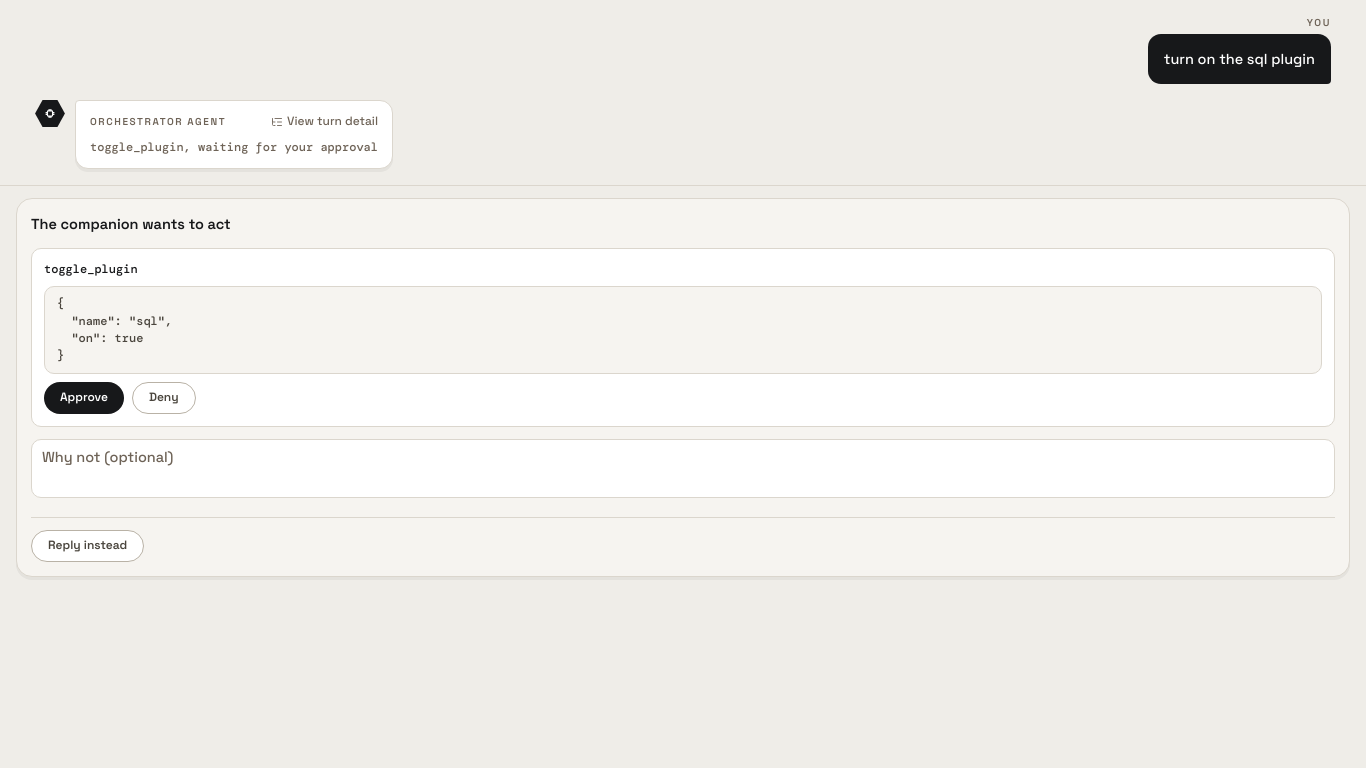
SessionChat › keeps the composer a target while the approval card holds its place
The width and height of the screenshot is (1366, 768).
Expected: the button with aria-label "Approve toggle_plugin" is shown, [44, 382, 124, 414]
Click the button "Reply instead" at (88, 546), box [31, 530, 144, 562]
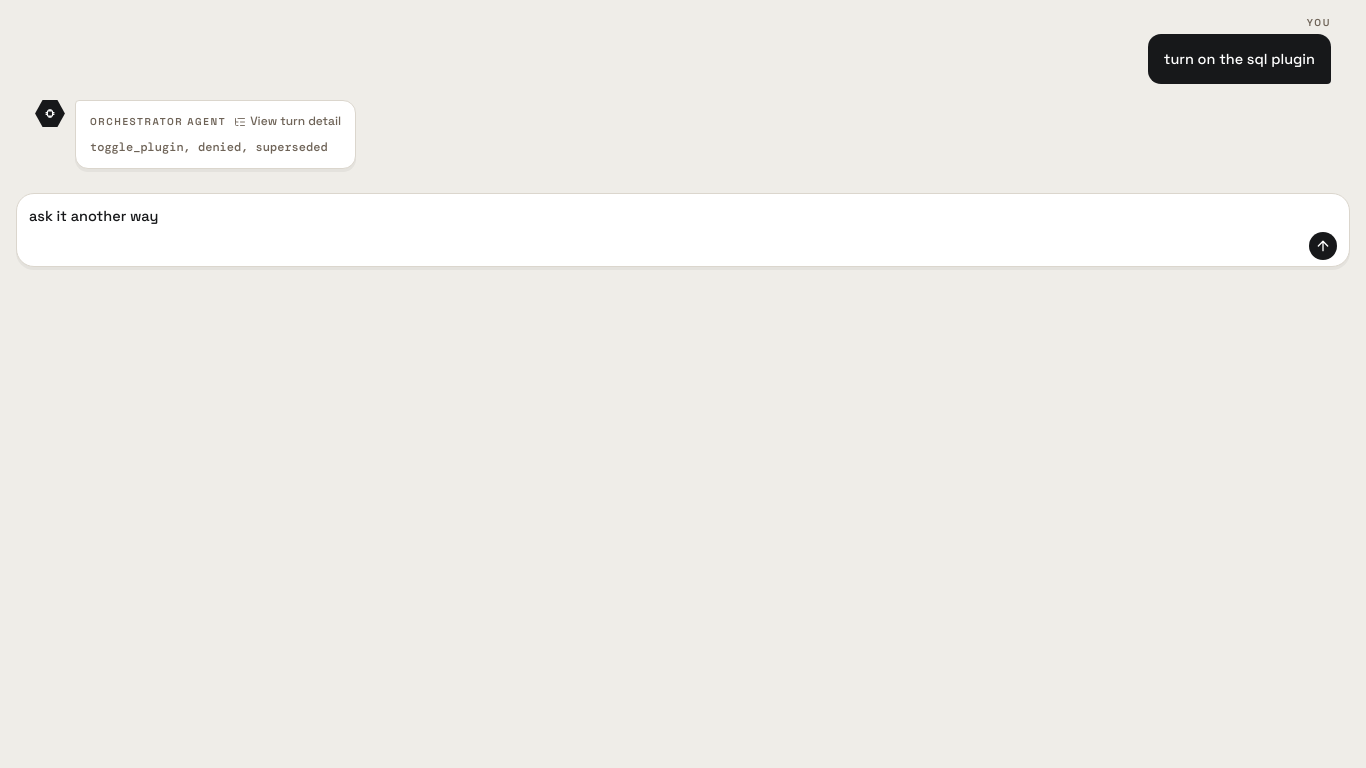
Expected: the text box named "Message" holds "ask it another way", [29, 204, 1337, 228]
